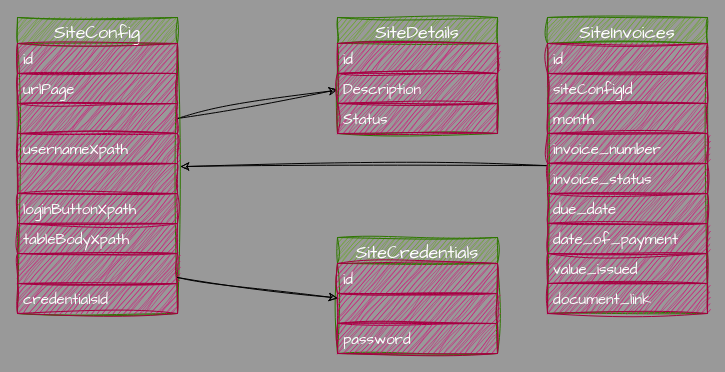
Image size: 725x372. Some labels were removed from this diagram. Each missing label, with the centre of its shape:
"detailsId" goes at (x=97, y=268).
"formXpath" goes at (x=97, y=118).
"passwordXpath" goes at (x=97, y=178).
"username" goes at (x=417, y=308).
